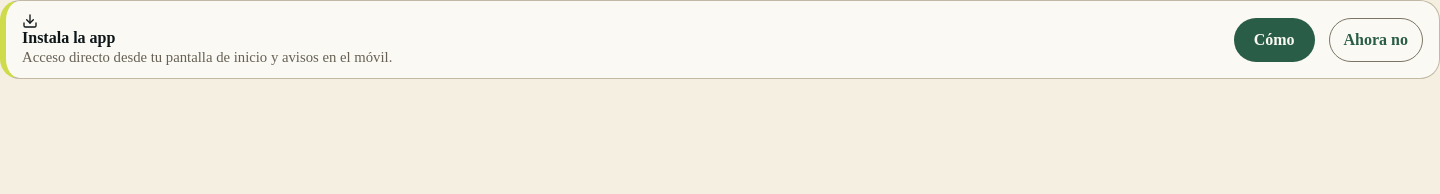
it: InstallBanner › on an iPhone it shows the banner with the Share steps instead of a prompt
Expected: the element named "Instalar la app" is shown, [0,0,1439,79]
Click the button "Cómo" at (1274,40), box [1234,18,1315,62]
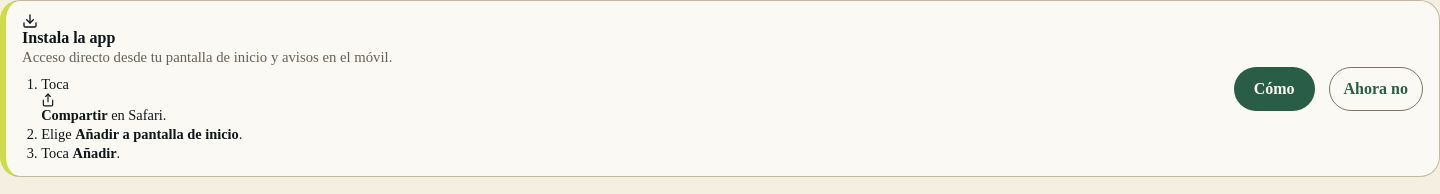
Now the text "Añadir a pantalla de inicio" is shown, box [75,126,239,142]
